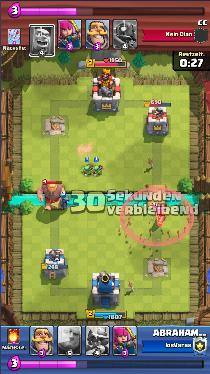ally_mini_pekka: (60, 195, 69, 210)
ally_spear_goblin: (93, 164, 104, 175), (82, 163, 90, 176)
enemy_arrow: (120, 187, 194, 246)
enemy_giant: (37, 181, 64, 211)
enemy_musketeer: (153, 204, 168, 225)
